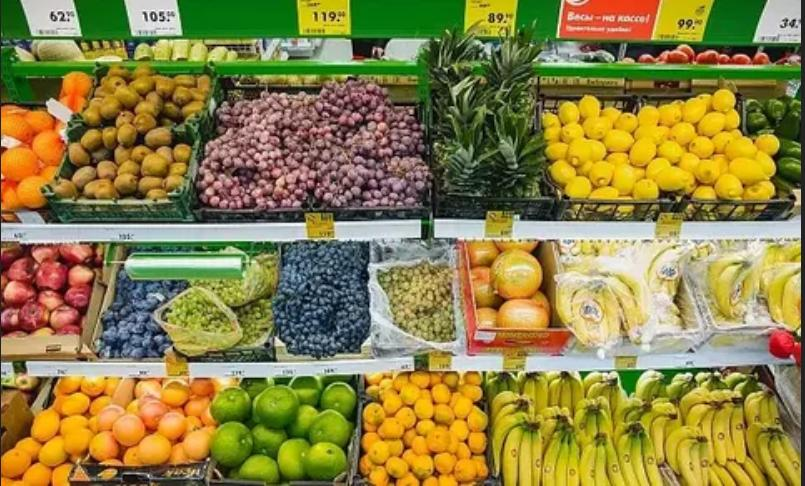banana: (492, 370, 652, 486), (636, 380, 802, 486), (548, 244, 694, 346), (700, 238, 805, 328)
grapes: (202, 78, 426, 211), (272, 237, 376, 355), (163, 247, 273, 355), (382, 260, 462, 350)
lemon: (551, 86, 780, 202)
mandarin: (353, 375, 485, 486)
orange: (0, 377, 118, 486)
pineapple: (425, 34, 545, 196)
red apple: (1, 242, 104, 342)
